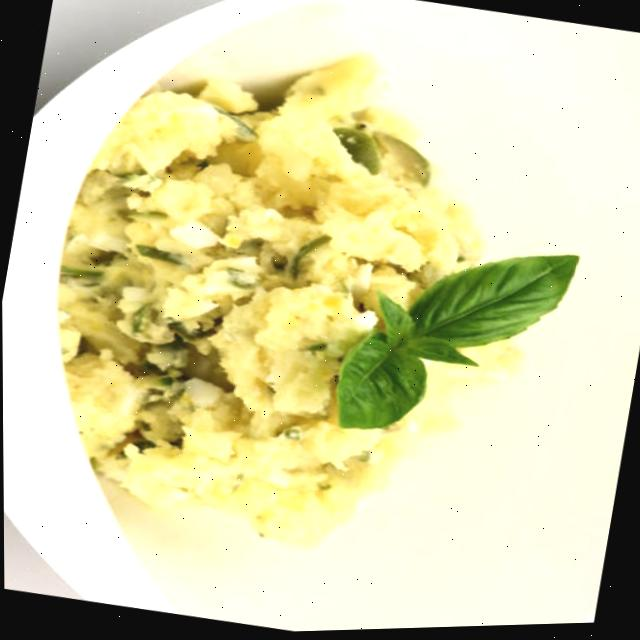蔬菜料理: (0, 0, 626, 627)
